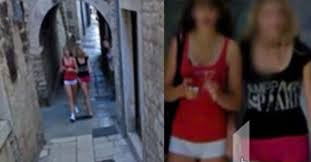people: (254, 1, 311, 162), (183, 1, 228, 162), (60, 45, 77, 122), (77, 48, 92, 114)
